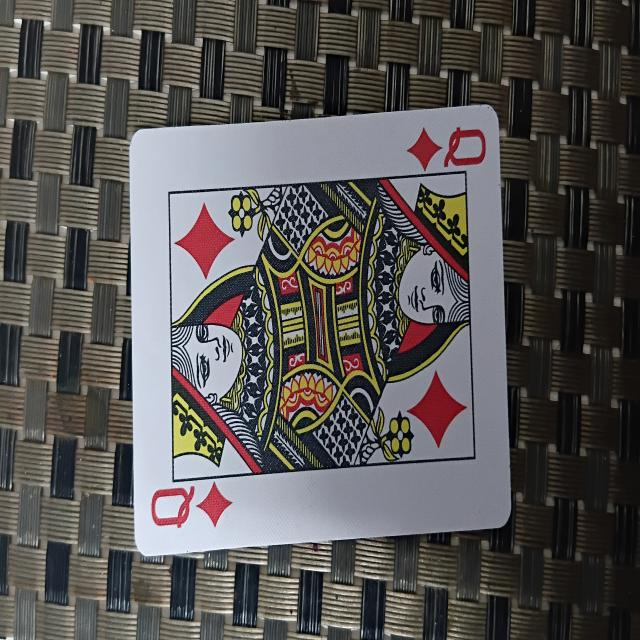QD: (130, 102, 504, 545)
